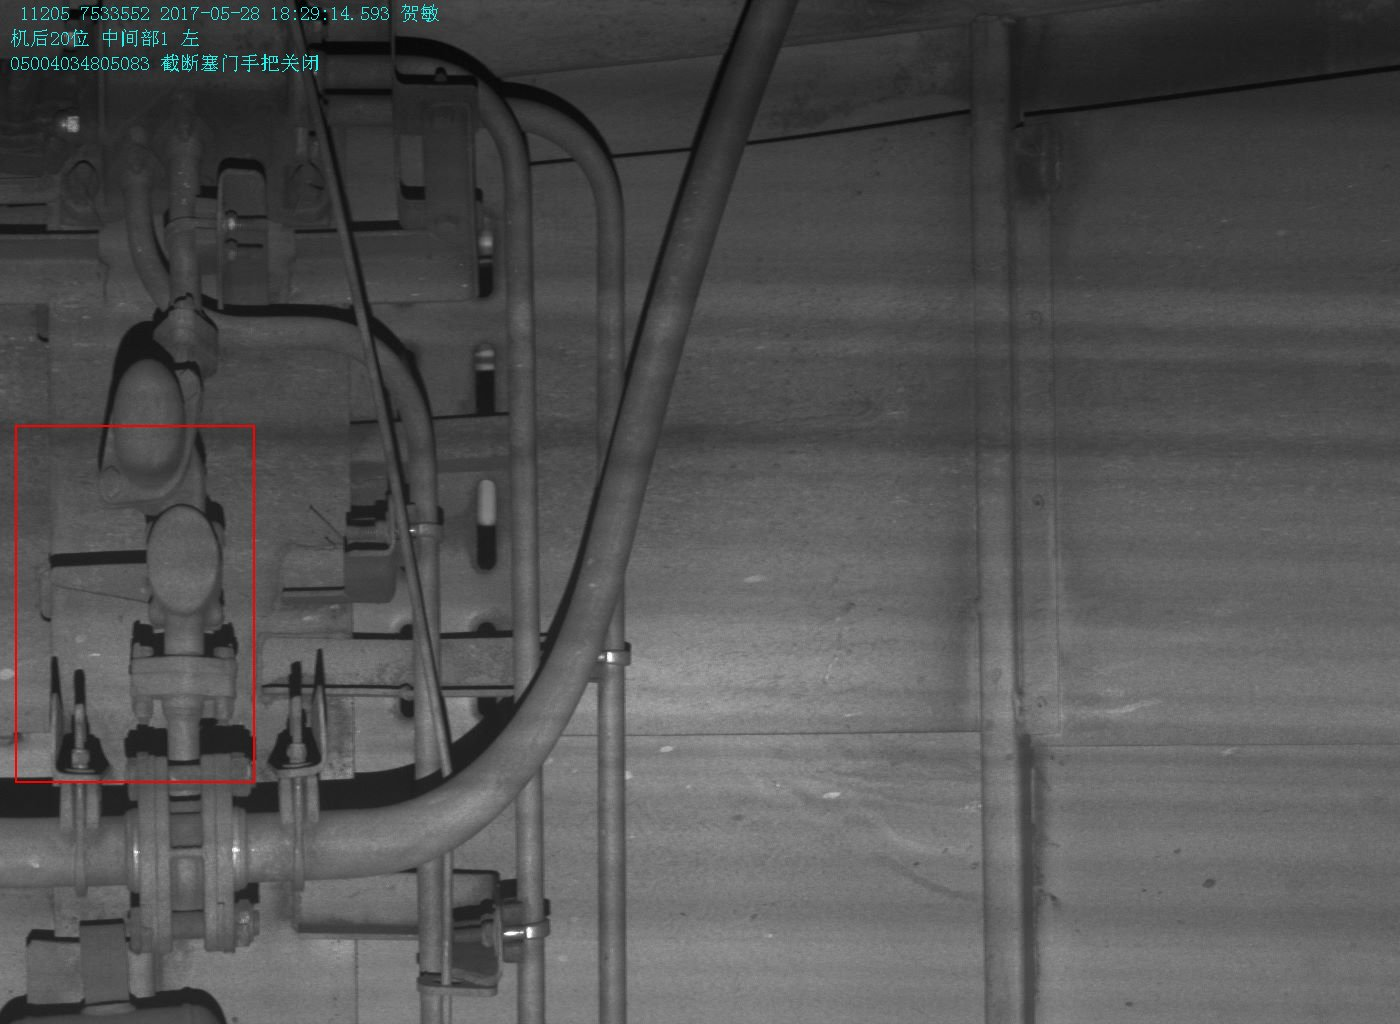truncated plug door handle: (49, 504, 226, 630)
